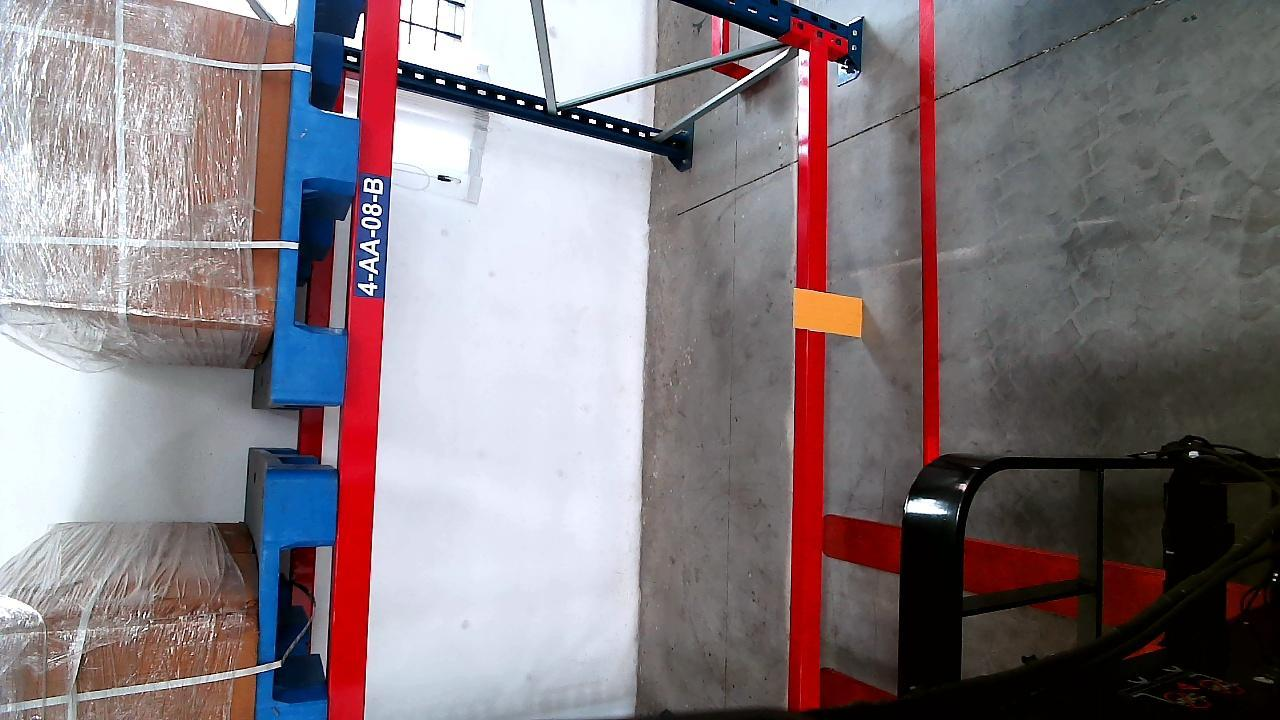red_line: (915, 11, 944, 457)
